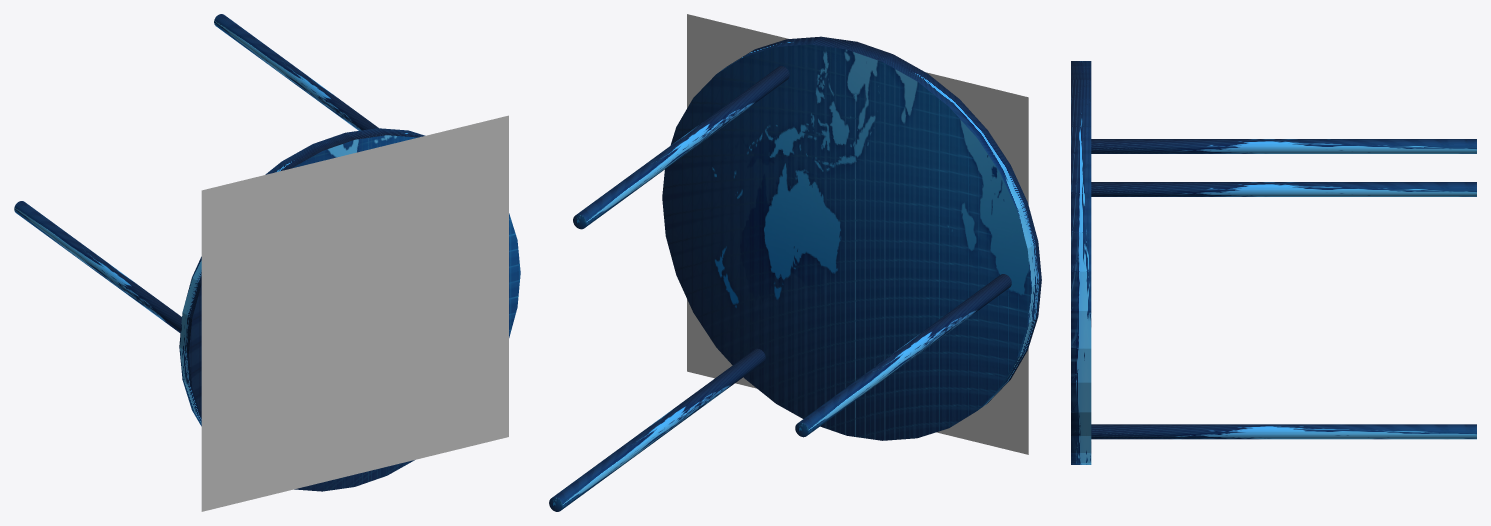
File: Table.obj
The picture shows the model from 3 angles, left to right: view 1: azimuth 30°, elevation 25°; view 2: azimuth 150°, elevation 25°; view 3: azimuth 270°, elevation 25°; orthographic projection. The views are drawn at different scales.
Visible parts, largest first — view 1: Table_Cylinder; view 2: Table_Cylinder; view 3: Table_Cylinder.
Part boxes in pixels (x1,y1,x2,y2): Table_Cylinder: (14,14,520,511); Table_Cylinder: (549,14,1041,511); Table_Cylinder: (1071,61,1476,464).
Size of the model in its own units: 1200 by 1200 by 1206.
